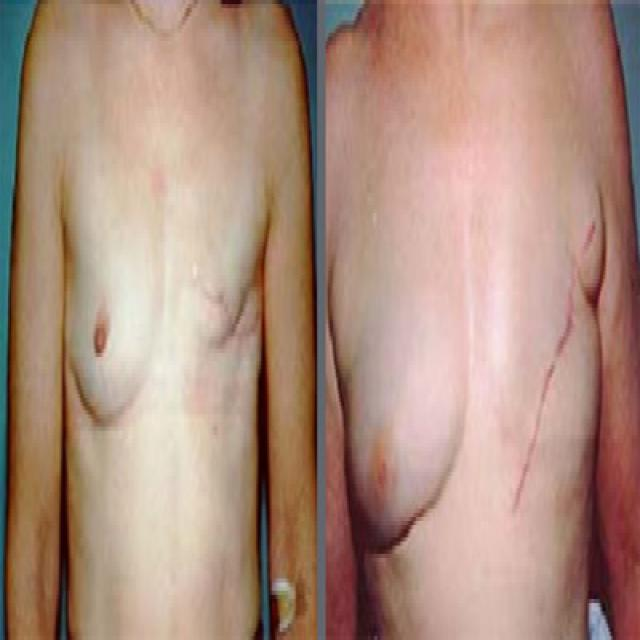Seno herido: (475, 196, 607, 532), (169, 204, 269, 456)
Seno ileso: (337, 213, 471, 578), (59, 203, 164, 456)
